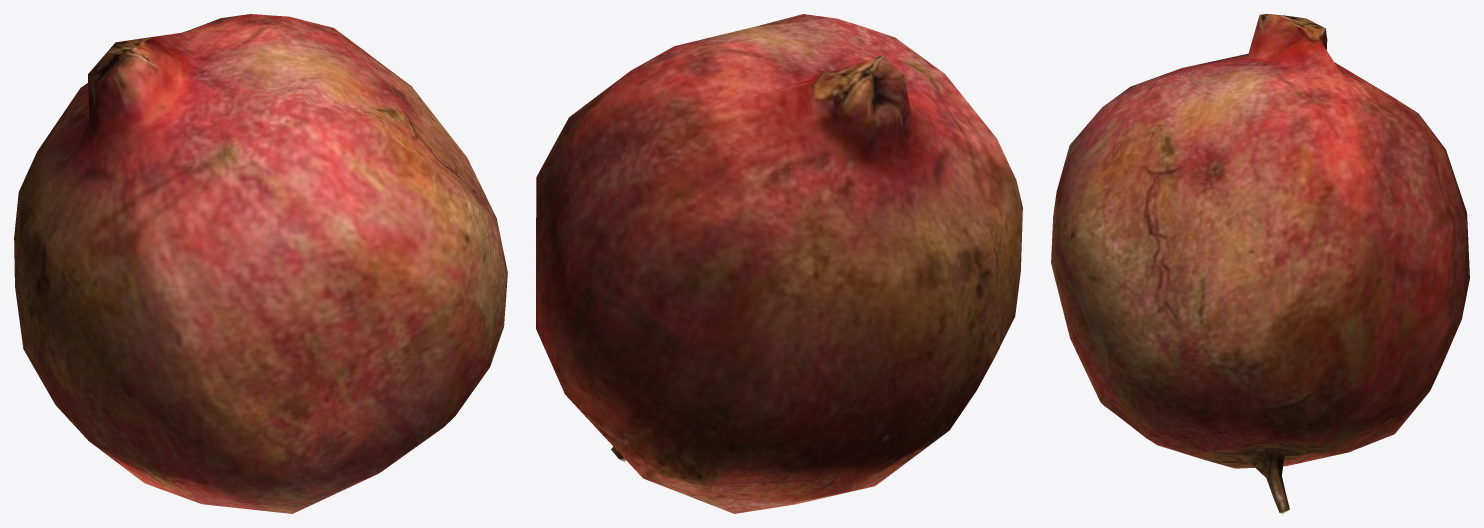
Rendered from A82_Pomegranite_low.fbx.
The picture shows the model from 3 angles, left to right: view 1: azimuth 30°, elevation 25°; view 2: azimuth 150°, elevation 25°; view 3: azimuth 270°, elevation 25°; orthographic projection. The views are drawn at different scales.
Parts seen in each view (by area): view 1: A82_Pomegranite_low; view 2: A82_Pomegranite_low; view 3: A82_Pomegranite_low.
Boxes of the visible parts, x1,y1,x2,y2 form: A82_Pomegranite_low: [14, 14, 507, 513]; A82_Pomegranite_low: [536, 14, 1022, 513]; A82_Pomegranite_low: [1051, 14, 1469, 513].
Size of the model in its own units: 8.65 by 8.36 by 8.82.
Materials: 1 (1 with a texture image).
